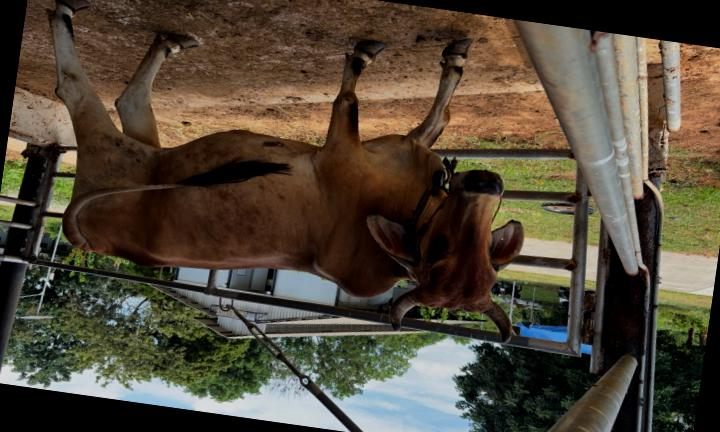Brahman: (47, 0, 523, 342)
